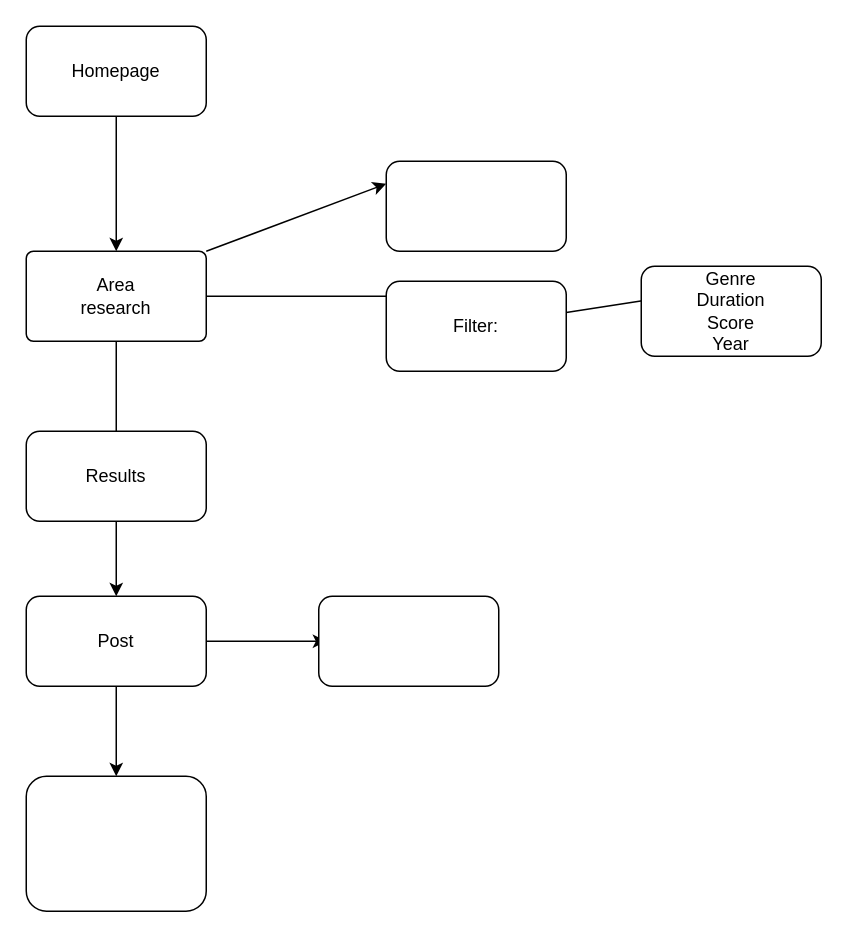
Image size: 848x938. Some labels were removed from this diagram. Each missing label, with the centre of its shape:
Details post: the point at 408,640
Search-bar: the point at 475,205
title Img year gen score favourite: the point at 115,843
